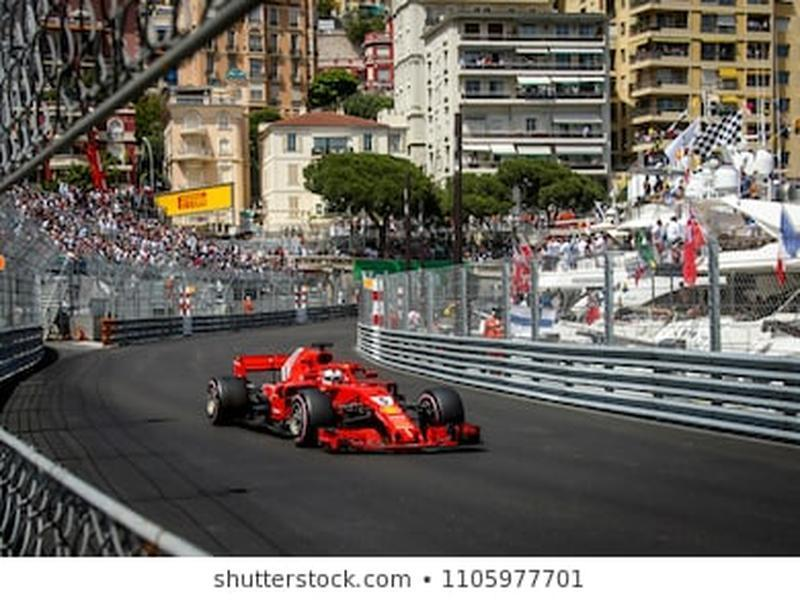f1: (183, 331, 492, 472)
